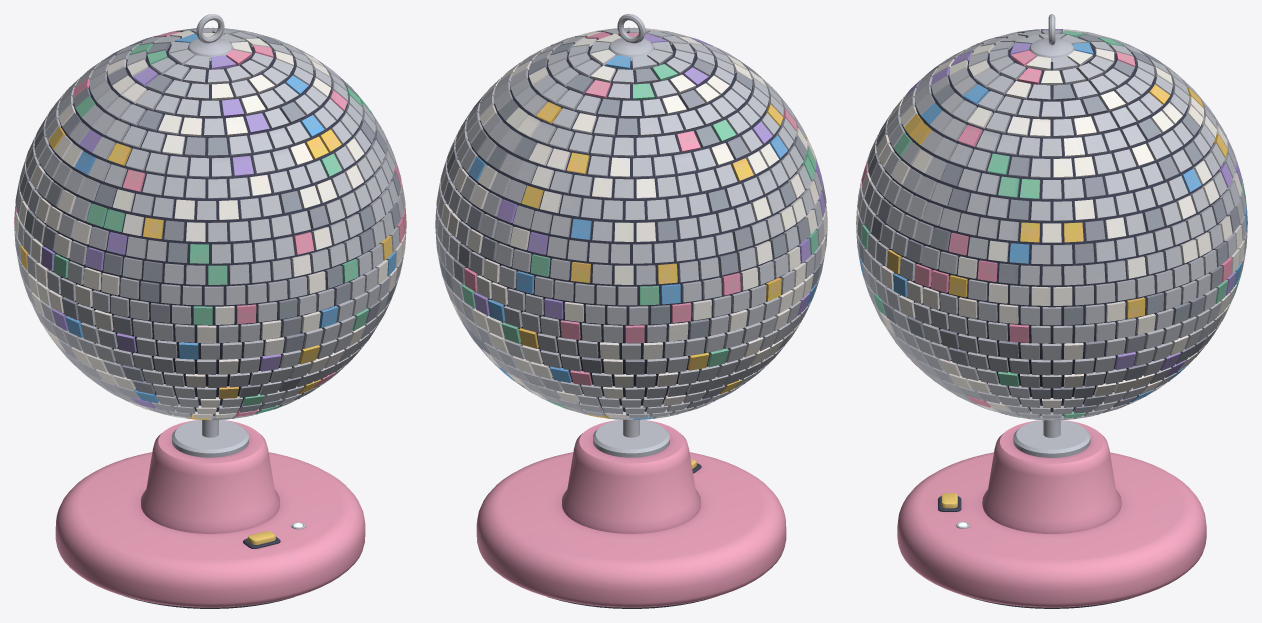
Rendered from disco-ball.glb.
3 renders of one model, left to right at view 1: azimuth 30°, elevation 25°; view 2: azimuth 150°, elevation 25°; view 3: azimuth 270°, elevation 25°, orthographic.
Visible parts, largest first — view 1: disco-ball_globe, disco-ball_body; view 2: disco-ball_globe, disco-ball_body; view 3: disco-ball_globe, disco-ball_body.
Boxes of the visible parts, x1,y1,x2,y2 form: disco-ball_globe: (14, 14, 406, 437); disco-ball_body: (55, 420, 365, 608); disco-ball_globe: (435, 14, 827, 437); disco-ball_body: (476, 420, 786, 608); disco-ball_globe: (856, 14, 1247, 437); disco-ball_body: (897, 420, 1206, 608).
Bounding box in the file's own units: 0.2029 × 0.3055 × 0.2029.
3 materials, 2 textured.
